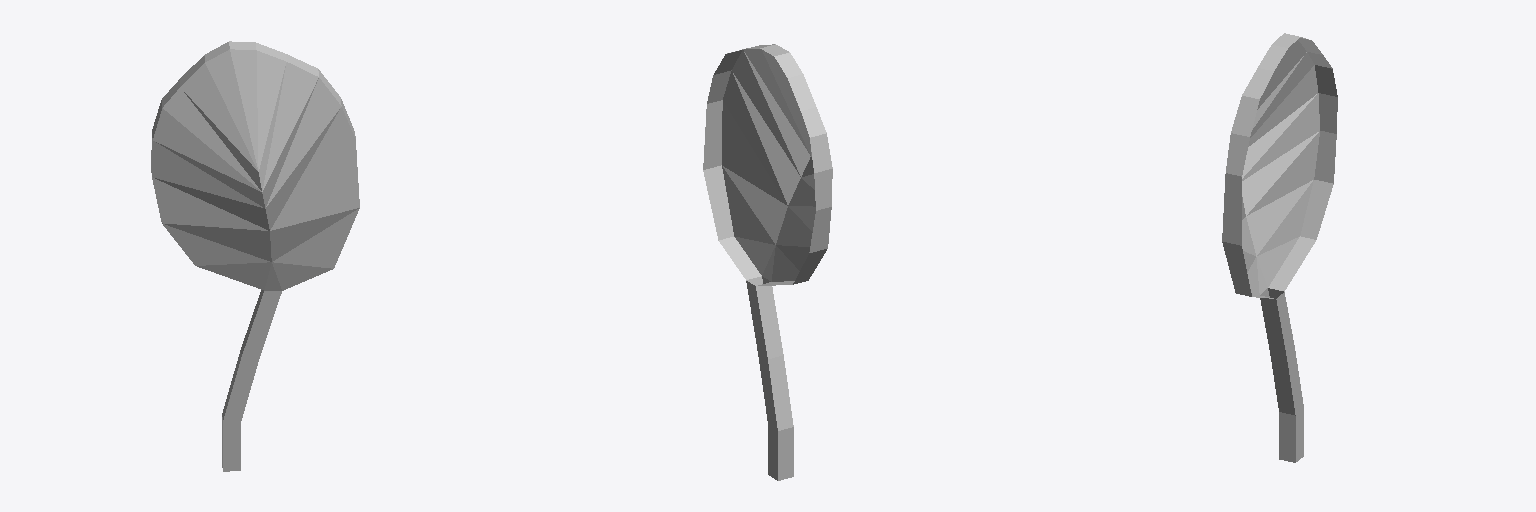
The model's file is arbre4.obj.
The picture shows the model from 3 angles: view 1: azimuth 30°, elevation 25°; view 2: azimuth 150°, elevation 25°; view 3: azimuth 270°, elevation 25°; orthographic projection.
Bounding box in the file's own units: 0.8115 × 1.95 × 0.4846.